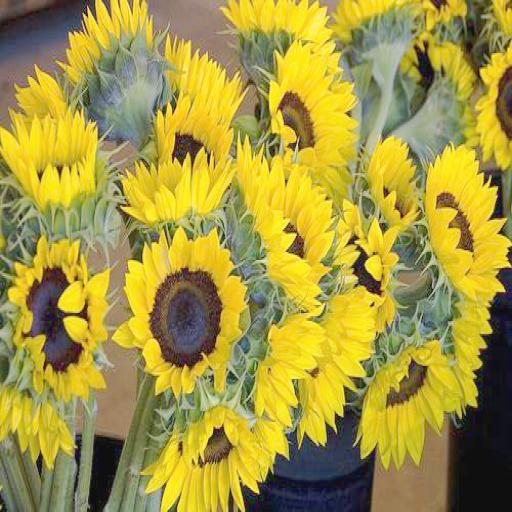sunflower: (123, 231, 249, 409), (236, 130, 328, 311), (14, 238, 108, 404), (426, 136, 512, 305), (140, 409, 274, 512), (358, 350, 466, 469), (276, 44, 358, 166), (114, 156, 234, 218), (337, 212, 397, 314), (154, 98, 234, 173), (367, 132, 424, 226), (477, 40, 512, 172)
